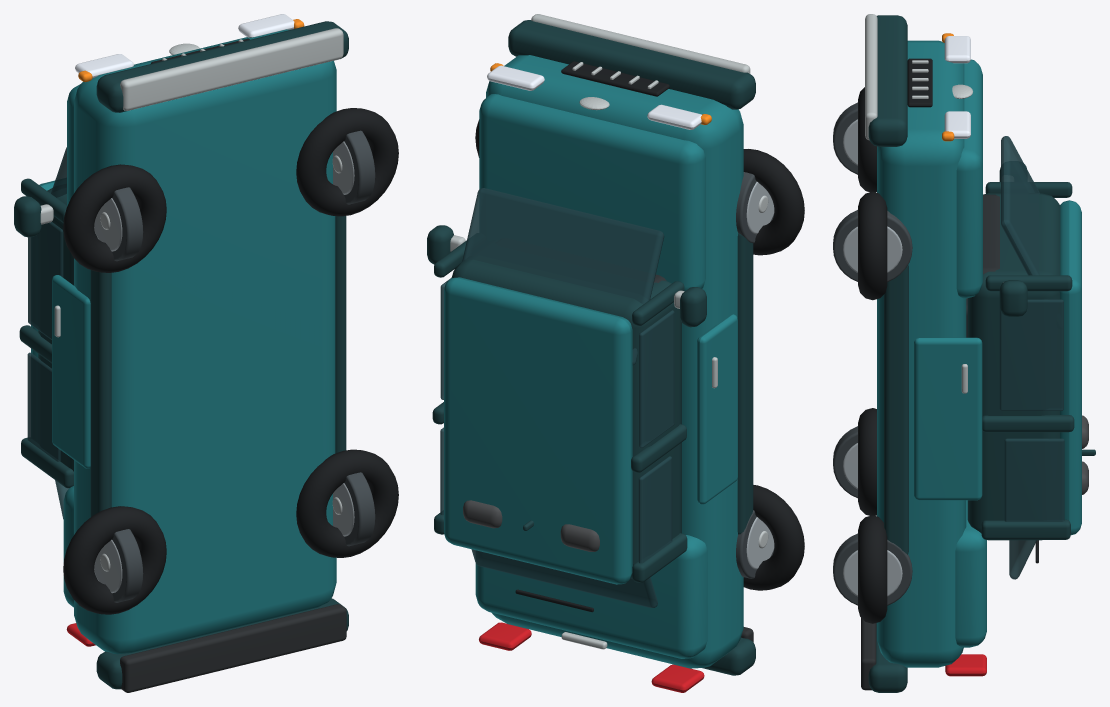
The model's file is naija-city-compact-hatchback.glb.
The picture shows the model from 3 angles, left to right: view 1: azimuth 30°, elevation 25°; view 2: azimuth 150°, elevation 25°; view 3: azimuth 270°, elevation 25°; orthographic projection. The views are drawn at different scales.
Visible parts, largest first — view 1: Body | lower monocoque, Body | rear undertray, Body | front lower lip, Driver_Door_Panel, Tyre_Rear_Left, Tyre_Front_Left, Tyre_Rear_Right, Tyre_Front_Right, Driver sill, Cabin | glasshouse base, Body | front bumper, Driver glass | front door (+19 smaller); view 2: Cabin | roof, Body | lower monocoque, Body | front hood, Cabin | glasshouse base, Glass | panoramic windscreen, Body | rear hatch shoulder, Body | front bumper, Driver_Door_Panel, Driver sill, Driver glass | front door, Tyre_Front_Left, Tyre_Rear_Left (+21 smaller); view 3: Body | lower monocoque, Cabin | glasshouse base, Passenger_Door_Panel, Passenger glass | front door, Passenger sill, Cabin | roof, Body | front hood, Passenger glass | rear quarter, Body | front bumper, Glass | panoramic windscreen, Body | rear hatch shoulder, Tyre_Front_Right (+25 smaller).
Boxes of the visible parts, <box> form: Body | lower monocoque: <box>74,29,336,654</box>; Body | rear undertray: <box>120,604,346,692</box>; Body | front lower lip: <box>120,28,343,110</box>; Driver_Door_Panel: <box>52,275,90,468</box>; Tyre_Rear_Left: <box>63,506,166,614</box>; Tyre_Front_Left: <box>63,164,166,272</box>; Tyre_Rear_Right: <box>296,449,398,557</box>; Tyre_Front_Right: <box>296,108,398,216</box>; Driver sill: <box>90,270,111,516</box>; Cabin | glasshouse base: <box>38,188,73,471</box>; Body | front bumper: <box>96,21,348,112</box>; Driver glass | front door: <box>28,222,63,339</box>; Cabin | roof: <box>444,277,632,584</box>; Body | lower monocoque: <box>486,55,743,668</box>; Body | front hood: <box>479,94,705,291</box>; Cabin | glasshouse base: <box>451,255,681,578</box>; Glass | panoramic windscreen: <box>462,188,664,365</box>; Body | rear hatch shoulder: <box>475,535,707,658</box>; Body | front bumper: <box>508,20,755,109</box>; Driver_Door_Panel: <box>697,314,737,504</box>; Driver sill: <box>737,233,753,534</box>; Driver glass | front door: <box>639,310,674,448</box>; Tyre_Front_Left: <box>743,149,804,255</box>; Tyre_Rear_Left: <box>743,485,804,590</box>; Body | lower monocoque: <box>877,40,966,667</box>; Cabin | glasshouse base: <box>967,193,1060,540</box>; Passenger_Door_Panel: <box>914,337,982,500</box>; Passenger glass | front door: <box>999,299,1063,410</box>; Passenger sill: <box>884,265,908,554</box>; Cabin | roof: <box>1059,200,1081,535</box>; Body | front hood: <box>956,59,982,298</box>; Passenger glass | rear quarter: <box>1004,438,1064,521</box>; Body | front bumper: <box>868,15,907,146</box>; Glass | panoramic windscreen: <box>1001,136,1039,275</box>; Body | rear hatch shoulder: <box>955,500,986,647</box>; Tyre_Front_Right: <box>858,191,887,300</box>.
Bounding box in the file's own units: 2.6 × 4.57 × 1.88.
